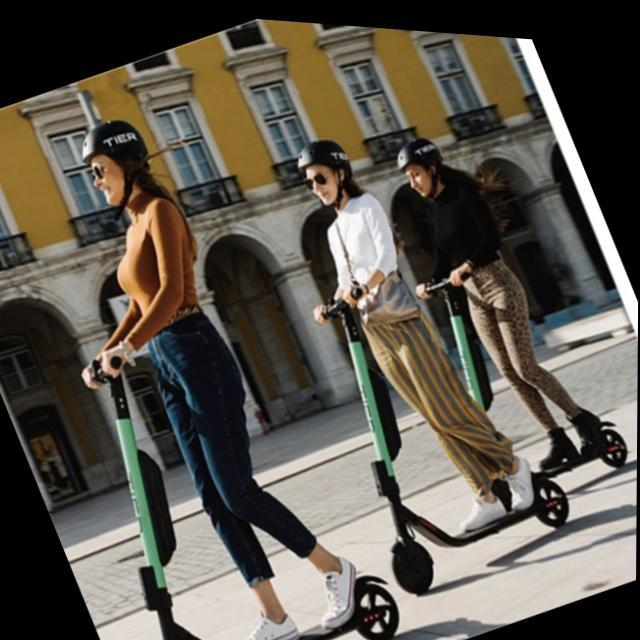Helmet: (73, 103, 160, 214), (290, 128, 356, 205), (390, 136, 450, 204)
